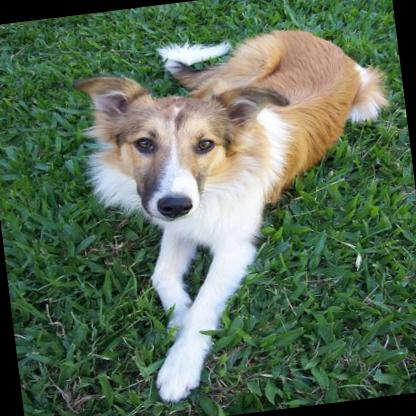collie: (67, 12, 416, 406)
